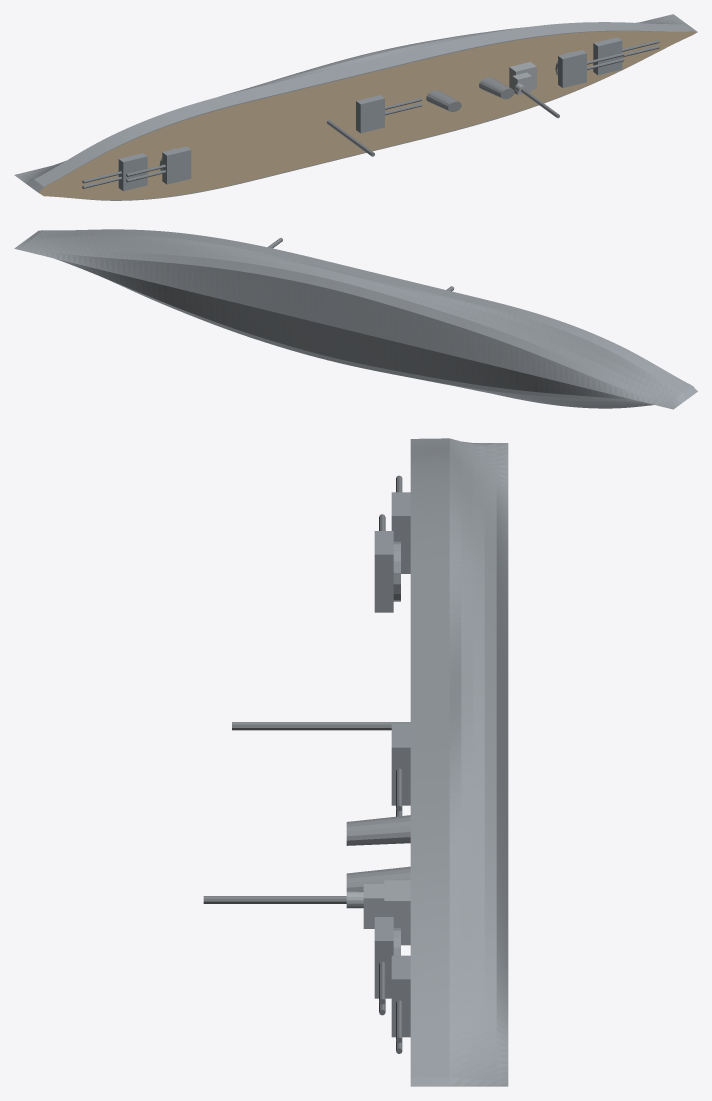
Rendered from B-C_Amagi.glb.
3 views of the same model, one above another, from view 1: azimuth 30°, elevation 25°; view 2: azimuth 150°, elevation 25°; view 3: azimuth 270°, elevation 25° (orthographic). The views are drawn at different scales.
Visible parts, largest first — view 1: B-C_Amagi; view 2: B-C_Amagi; view 3: B-C_Amagi.
Part boxes in pixels (x1=…): B-C_Amagi: x1=14, y1=14, x2=697, y2=200; B-C_Amagi: x1=14, y1=229, x2=697, y2=409; B-C_Amagi: x1=203, y1=438, x2=508, y2=1086.
Bounding box in the file's own units: 247 × 31.34 × 49.38.
